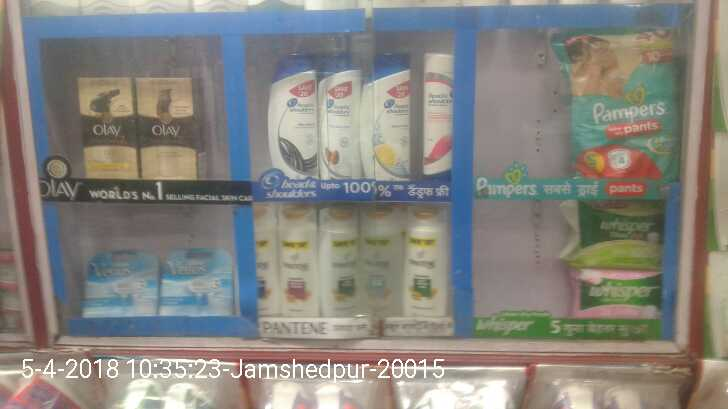venus: (82, 249, 159, 314), (159, 248, 233, 314)
